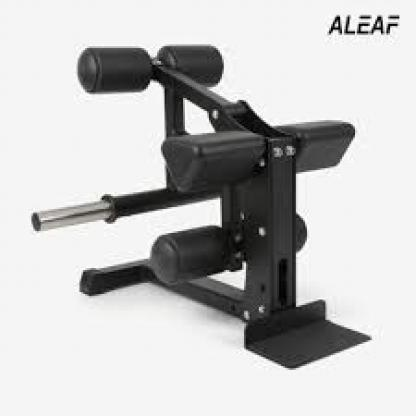arm curl machine: (33, 45, 371, 371)
